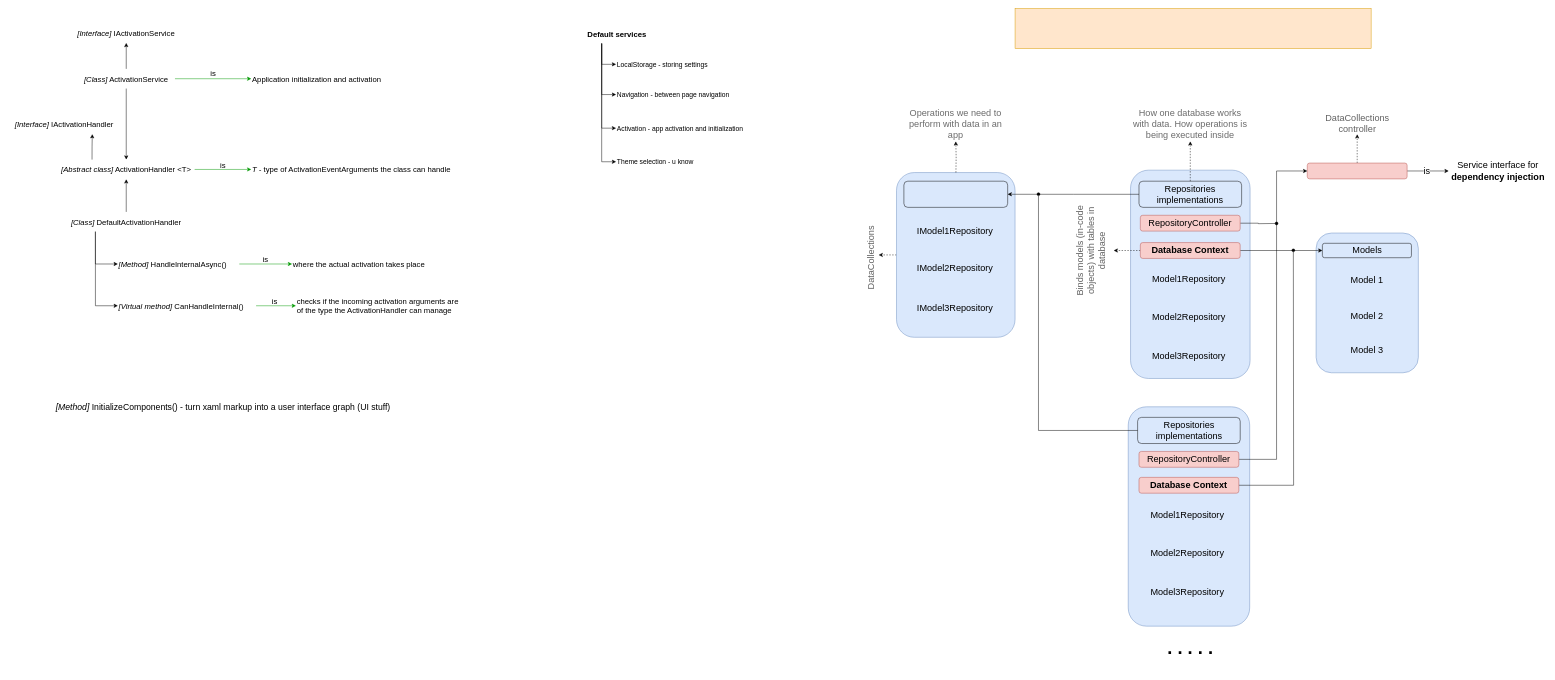
Some shapes in this 1555 by 680 pixel diagram are drawn without their labels. The centre of each missing label's shape, as x and y in pixels:
Database scalable system: point (1193, 28)
IRepositoryController: point (1357, 171)
Repositories Interfaces: point (955, 194)
